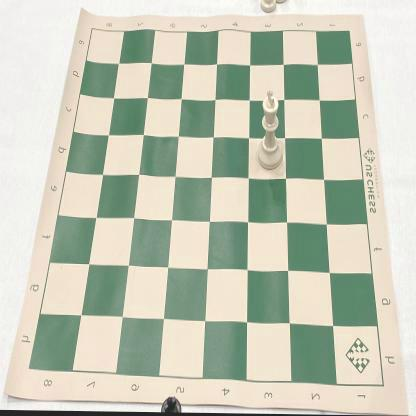white-king: (256, 88, 284, 174)
